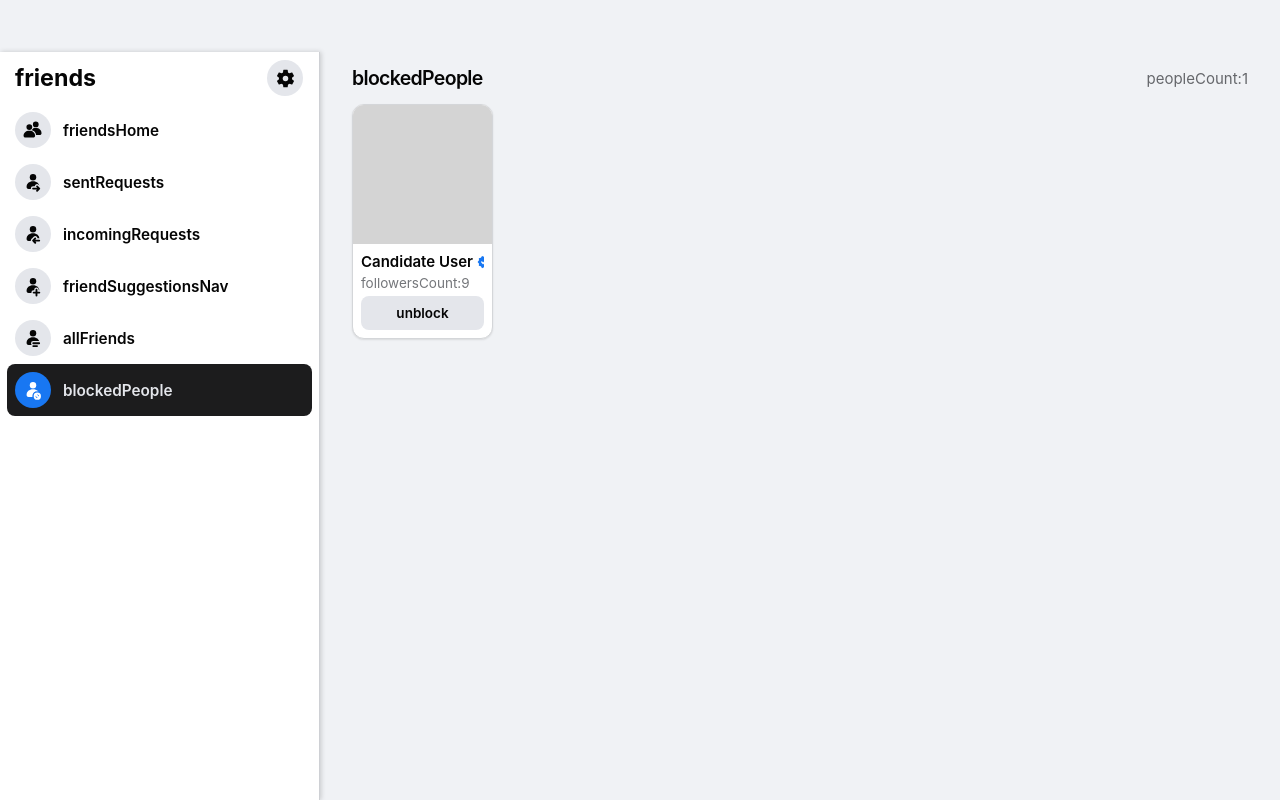
FriendsPage redesign › loads and performs the blocked section action
Click the button "unblock": (422, 313) [361,296,484,330]
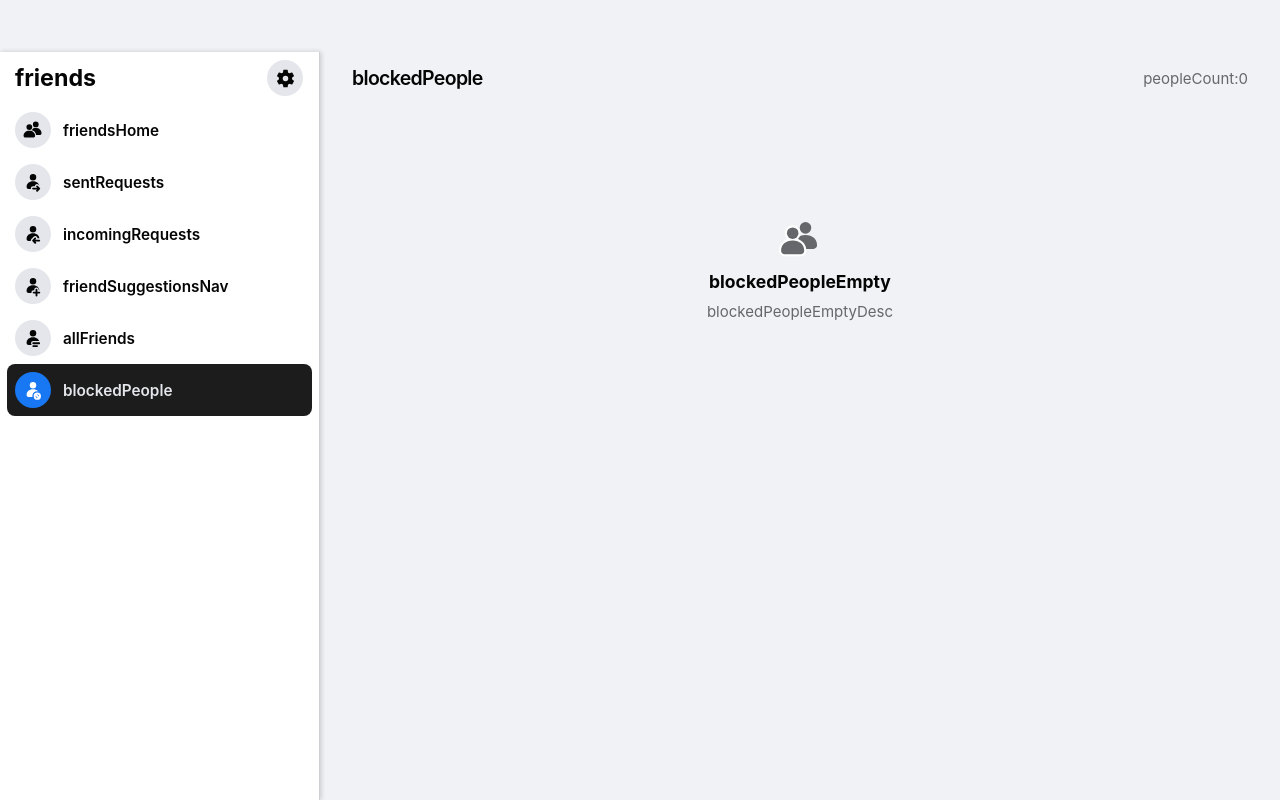
Now the element with class "friend-discovery-card" is gone
